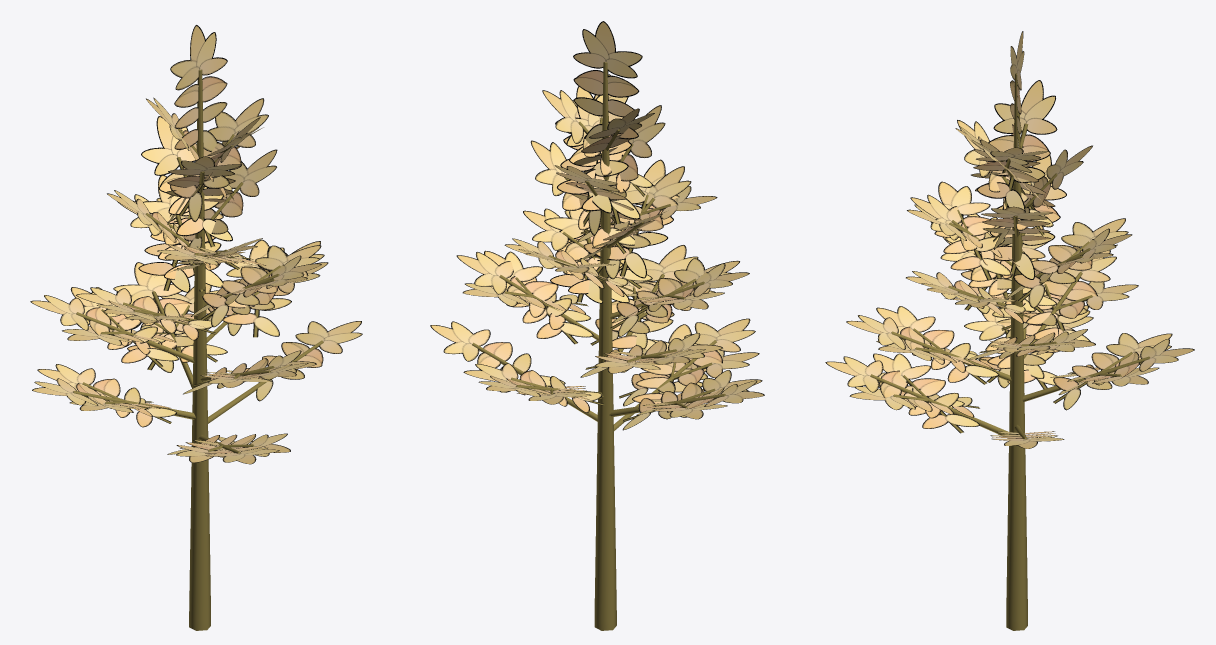
Rendered from poplar-yellow.gltf.
3 views of the same model, side by side, from view 1: azimuth 30°, elevation 25°; view 2: azimuth 150°, elevation 25°; view 3: azimuth 270°, elevation 25° (orthographic). The views are drawn at different scales.
Visible parts, largest first — view 1: leaves, bark; view 2: leaves, bark; view 3: leaves, bark.
Boxes of the visible parts, left/top/right/bottom form: leaves: left=30, top=25, right=362, bottom=464; bark: left=73, top=69, right=323, bottom=630; leaves: left=430, top=21, right=764, bottom=430; bark: left=472, top=62, right=725, bottom=630; leaves: left=825, top=31, right=1194, bottom=448; bark: left=870, top=73, right=1149, bottom=630.
Size of the model in its own units: 1.72 by 2.96 by 1.74.
2 materials, 1 textured.
